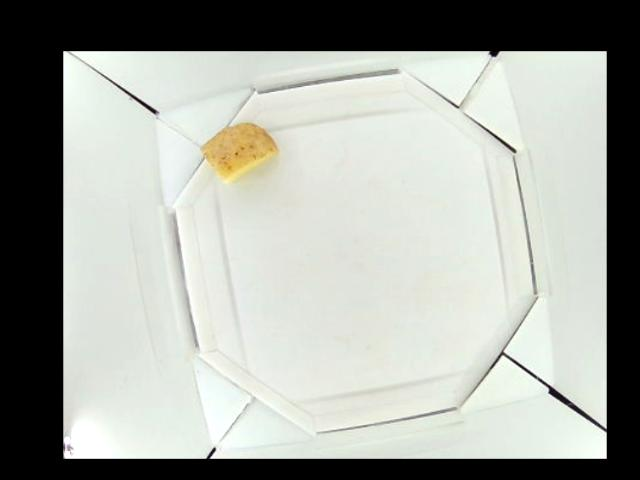Potato: (203, 122, 276, 181)
